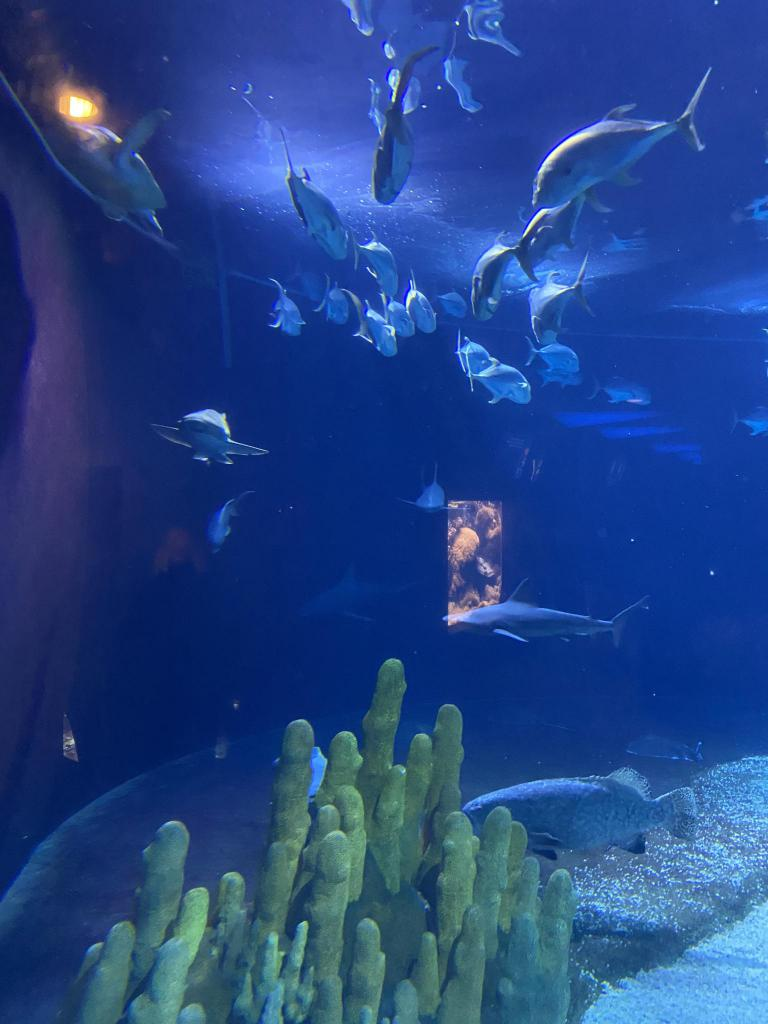fish: (533, 68, 713, 206), (462, 768, 700, 862), (374, 44, 438, 204), (472, 222, 540, 322), (518, 198, 592, 280), (528, 253, 592, 341), (288, 172, 348, 260), (348, 292, 398, 356), (467, 358, 533, 406), (354, 232, 398, 290), (267, 278, 305, 334), (589, 374, 651, 408), (524, 336, 580, 372), (406, 272, 437, 332), (379, 289, 415, 339), (316, 272, 346, 324), (455, 333, 493, 373), (730, 406, 768, 436), (539, 366, 583, 390), (433, 289, 467, 317)
shark: (442, 578, 648, 648), (298, 564, 433, 620), (150, 408, 268, 464), (396, 460, 472, 512), (206, 489, 252, 553)
stingray: (628, 732, 704, 764)
